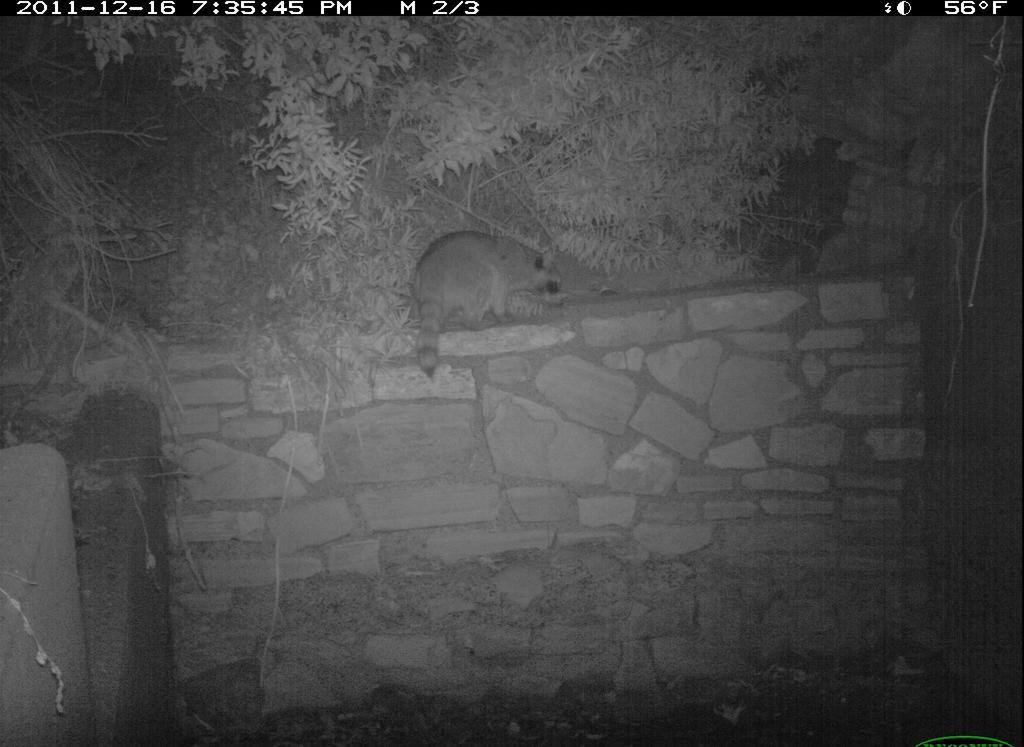raccoon: (408, 227, 577, 385)
